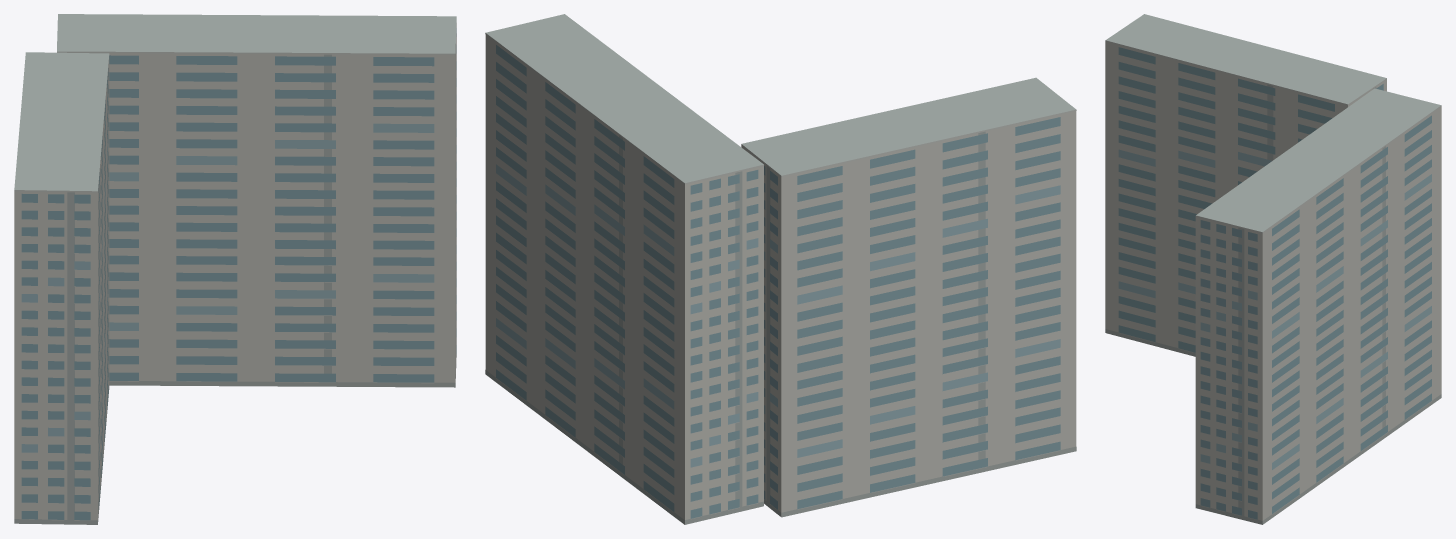
Rendered from residential-6b3579da-ff7e-48b9-bdd0-1e5d911eaa86.glb.
3 views of the same model, side by side, from view 1: azimuth 30°, elevation 25°; view 2: azimuth 150°, elevation 25°; view 3: azimuth 270°, elevation 25° (orthographic). The views are drawn at different scales.
Visible parts, largest first — view 1: residential-6b3579da-ff7e-48b9-bdd0-1e5d911eaa86.tmp; view 2: residential-6b3579da-ff7e-48b9-bdd0-1e5d911eaa86.tmp; view 3: residential-6b3579da-ff7e-48b9-bdd0-1e5d911eaa86.tmp.
Boxes of the visible parts, x1,y1,x2,y2 form: residential-6b3579da-ff7e-48b9-bdd0-1e5d911eaa86.tmp: (14, 14, 456, 524); residential-6b3579da-ff7e-48b9-bdd0-1e5d911eaa86.tmp: (485, 14, 1076, 524); residential-6b3579da-ff7e-48b9-bdd0-1e5d911eaa86.tmp: (1105, 14, 1441, 524).
Bounding box in the file's own units: 86.34 × 54 × 56.19.
